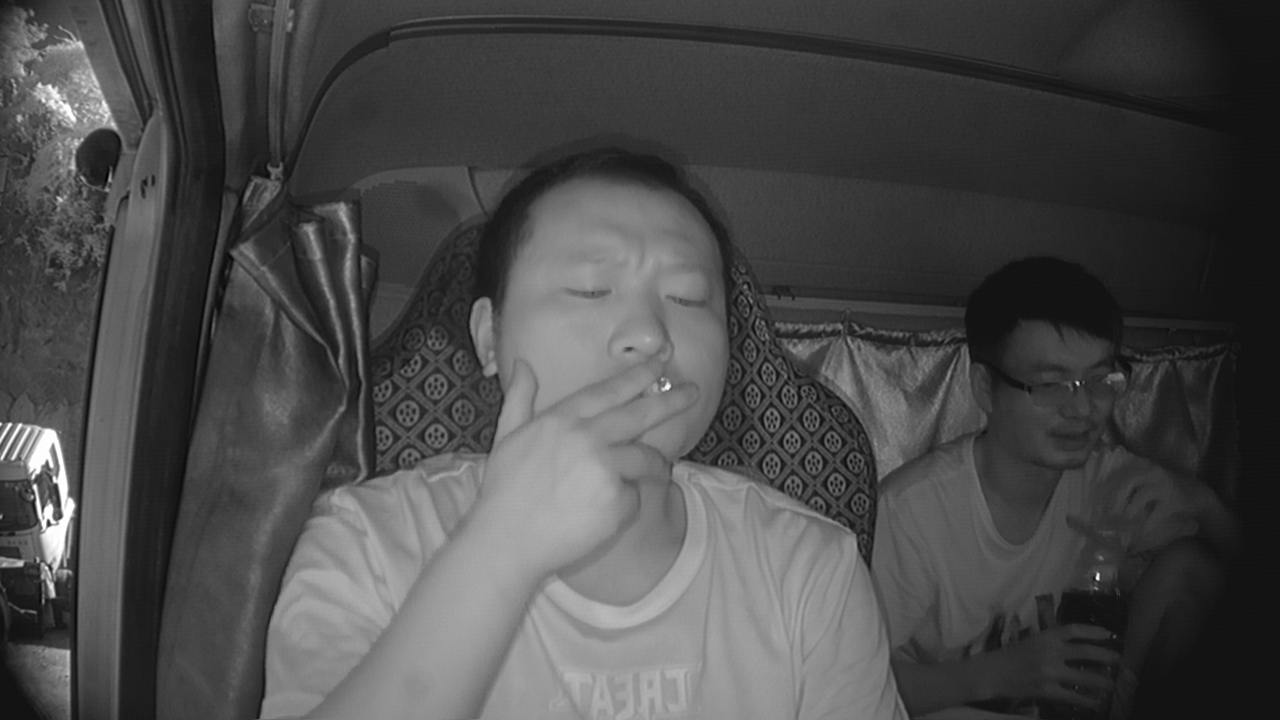hand: (547, 356, 696, 528)
